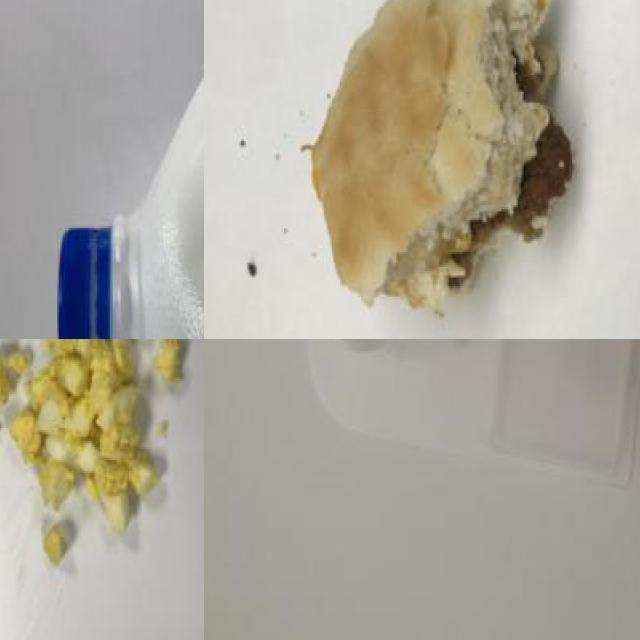compost: (290, 0, 592, 339), (0, 339, 204, 579)
plastic: (45, 0, 204, 339), (302, 339, 640, 489)
